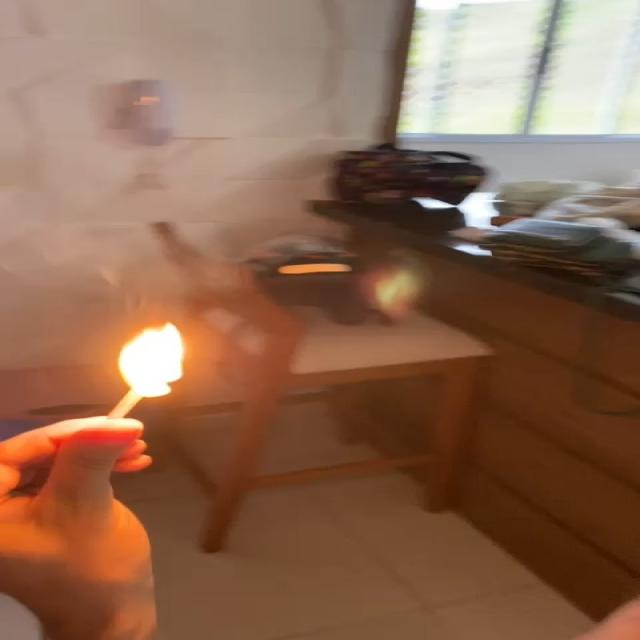fogo-ypXI: (117, 318, 184, 398)
